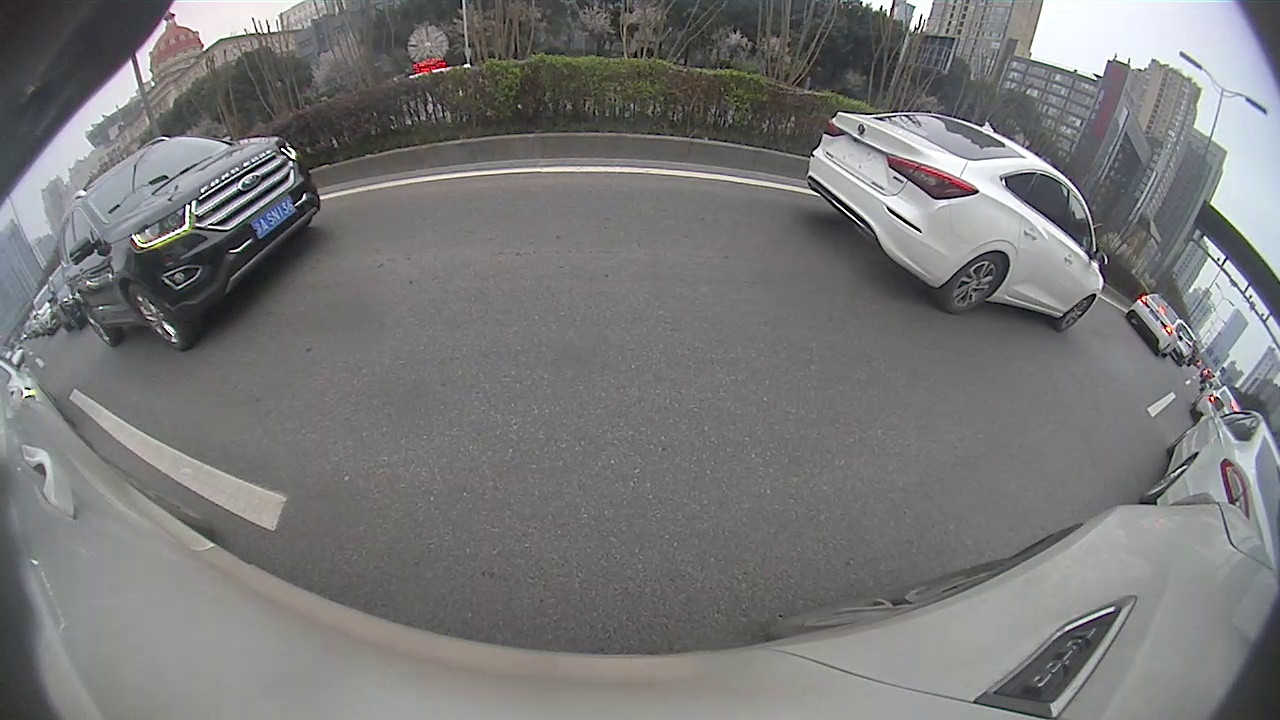car: (807, 112, 1106, 333), (52, 135, 319, 353), (1137, 398, 1279, 577), (1125, 291, 1184, 358)
front: (119, 286, 188, 350), (1058, 299, 1095, 330)
rear: (944, 249, 998, 310)
